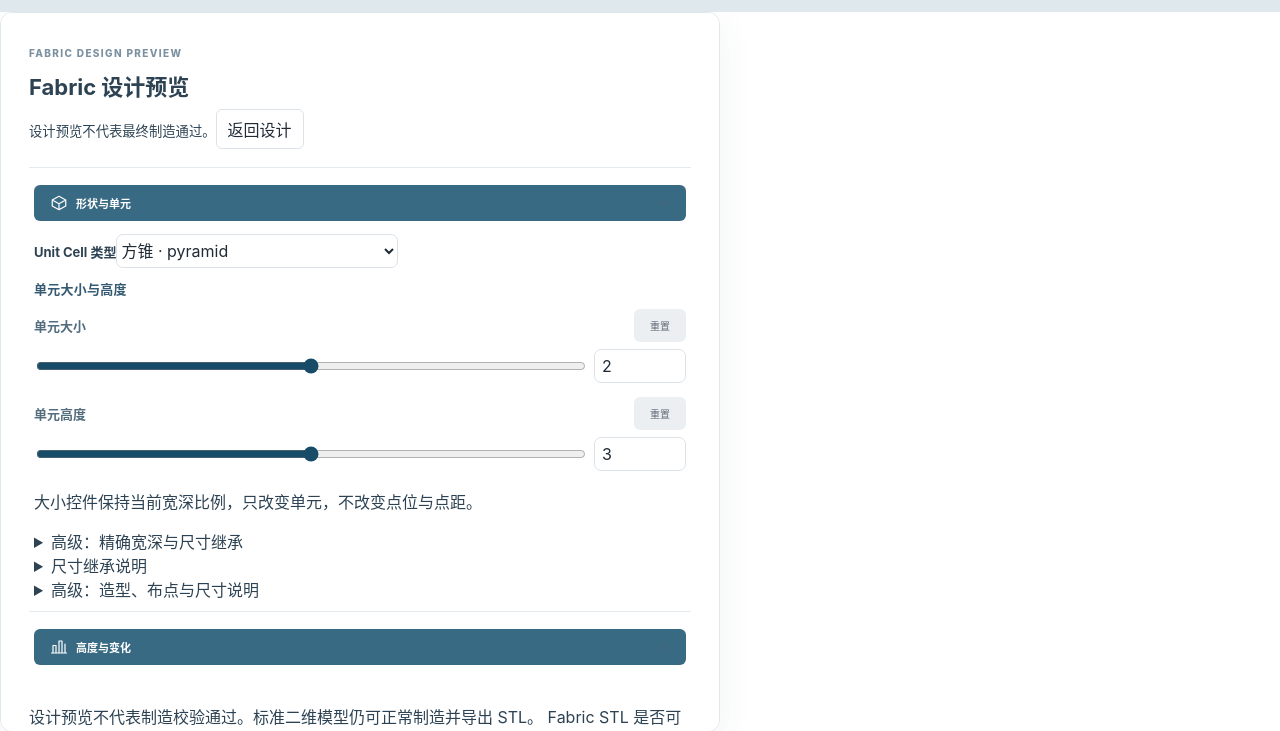
it: output classification and element inspector states › retains standalone diagnostic access and explicit navigation callbacks without submitting manufacturing
Click the button "返回设计" at coordinates (260, 129), box [216,109,304,149]
(page scrolled)
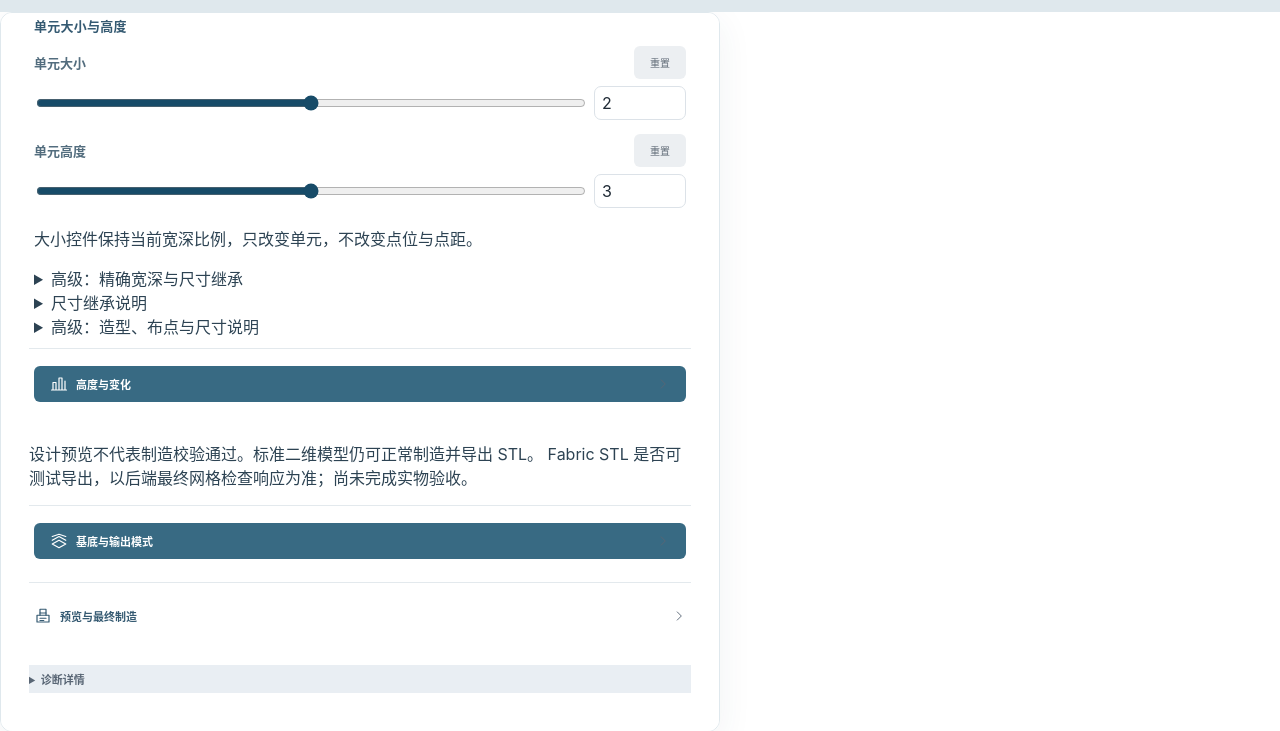
Click the button "预览与最终制造" at coordinates (98, 617), box [34,600,686,632]
(page scrolled)
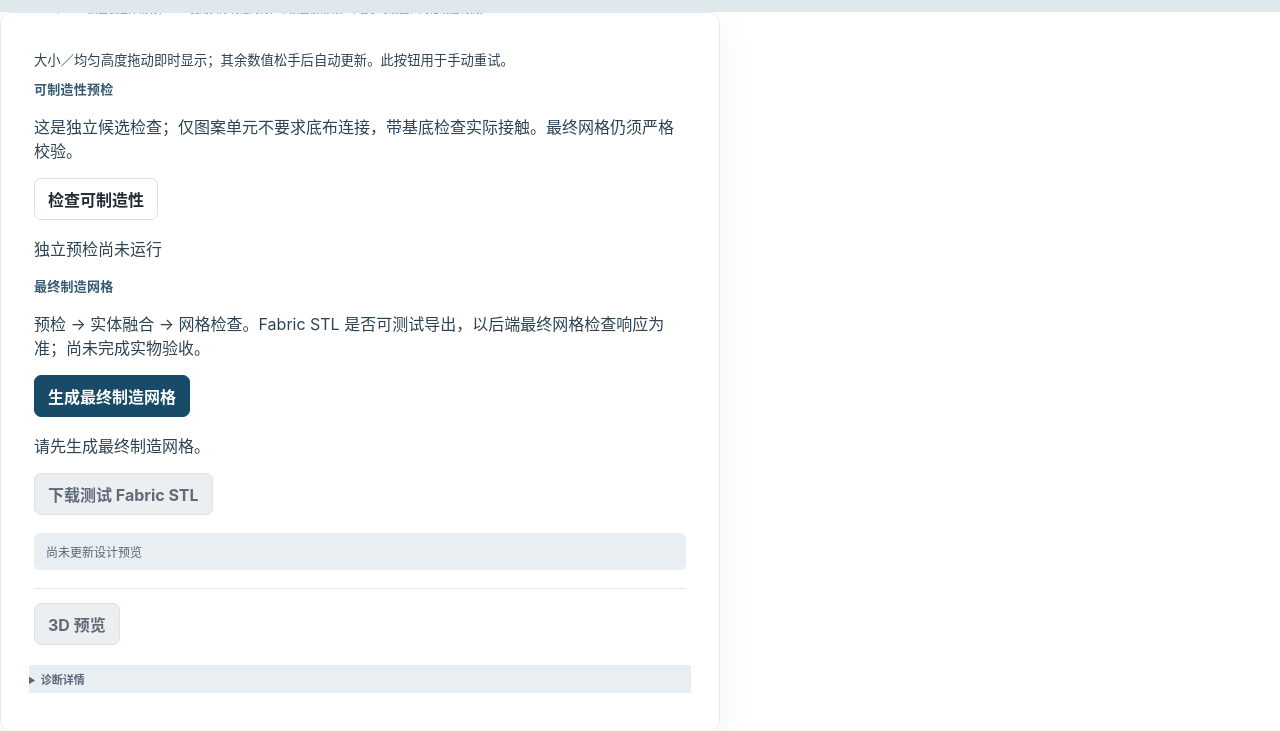
Expected: the button "3D 预览" is shown, [34,603,120,645]
